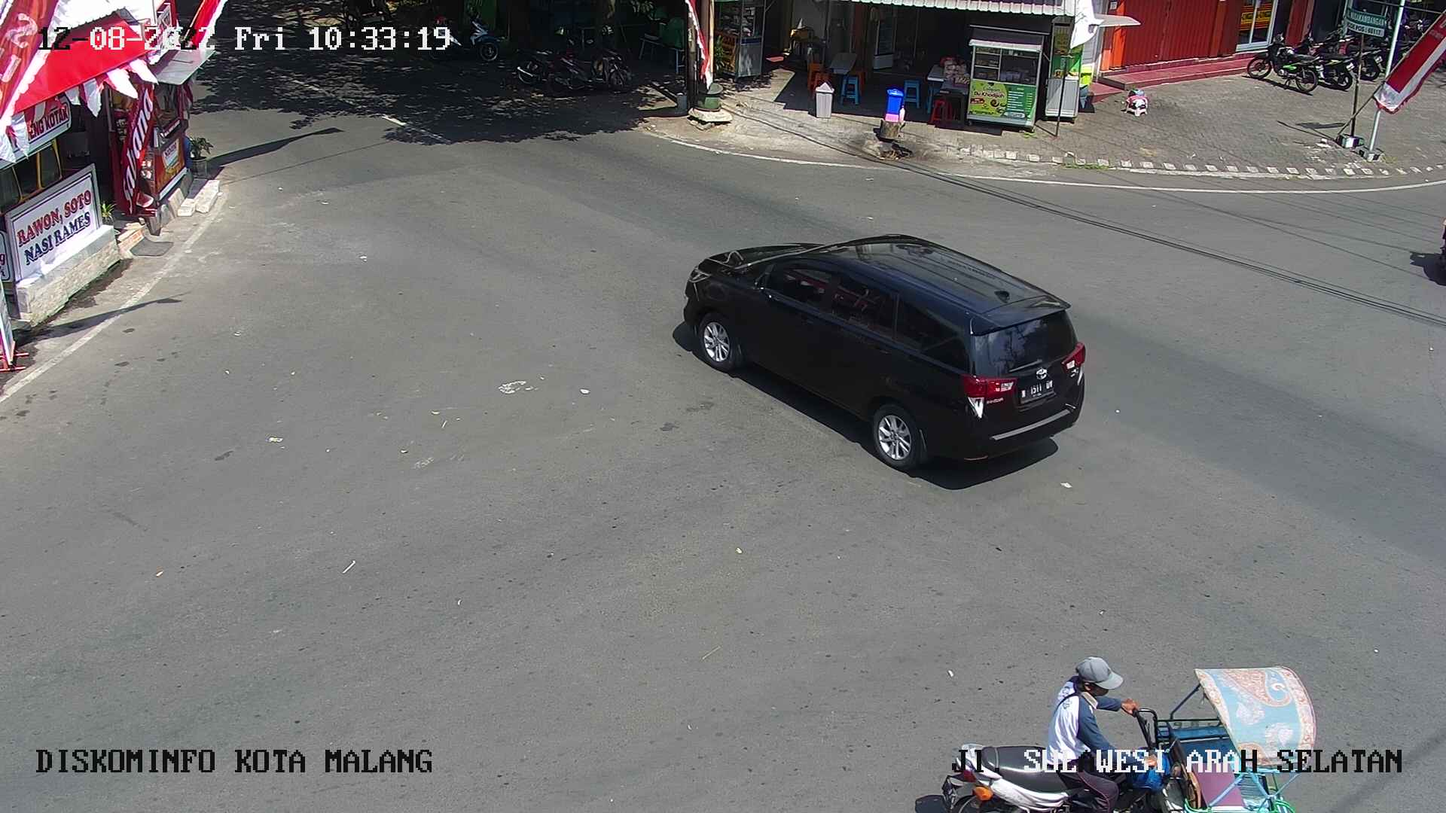without_helmet: (934, 657, 1326, 813)
